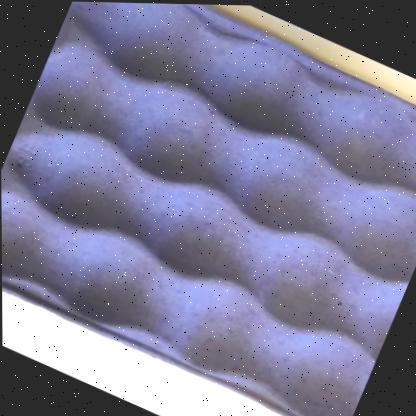Paper: (1, 1, 416, 416)
